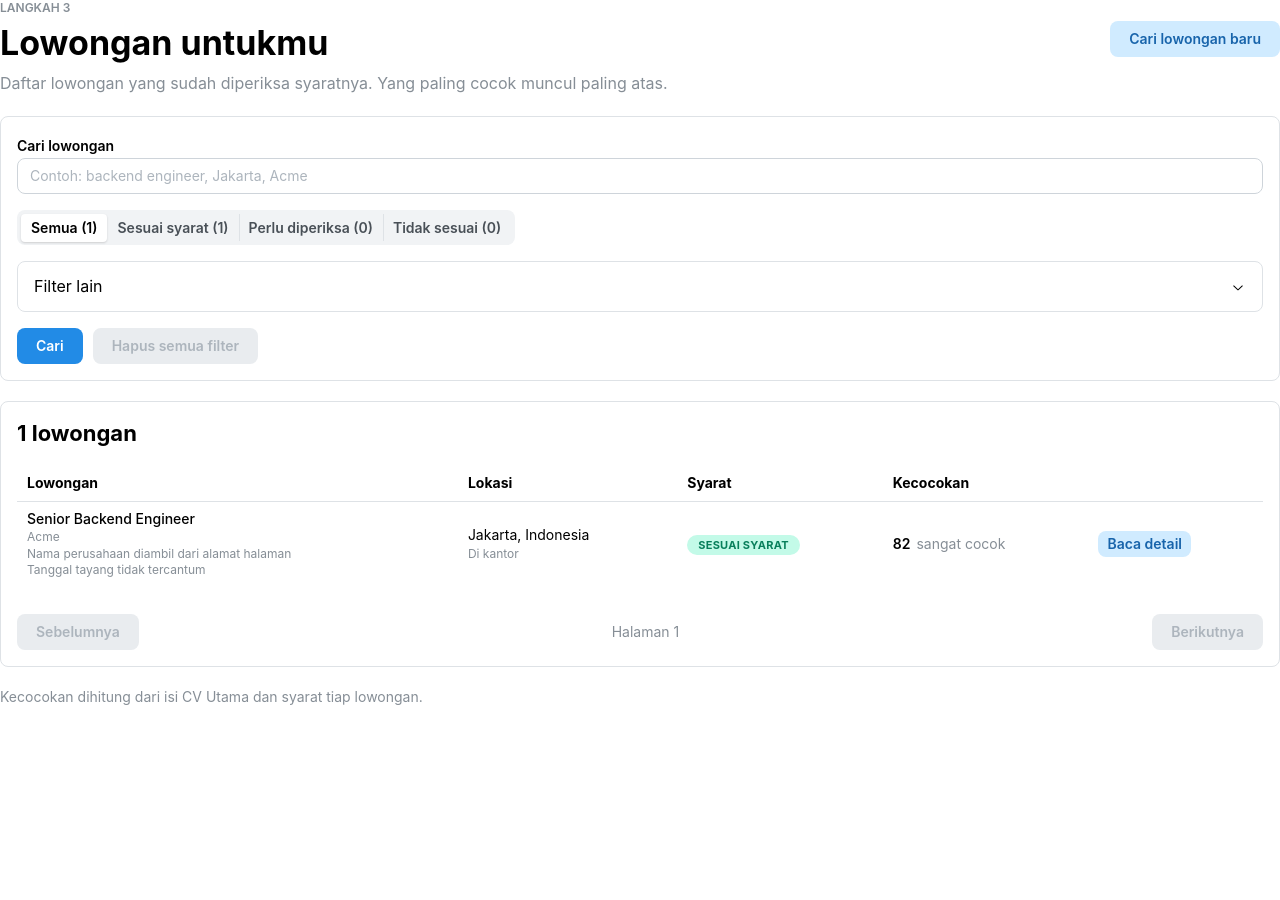
Test: MatchesPage › names the two gaps the source leaves, and only those
Expected: the text "Nama perusahaan diambil dari alamat halaman" is shown, [27,546,291,561]
Expected: the text "Tanggal tayang tidak tercantum" is shown, [27,562,206,577]
Step 1. Click the text "Senior Backend Engineer" → (111, 518), box [27,510,195,526]
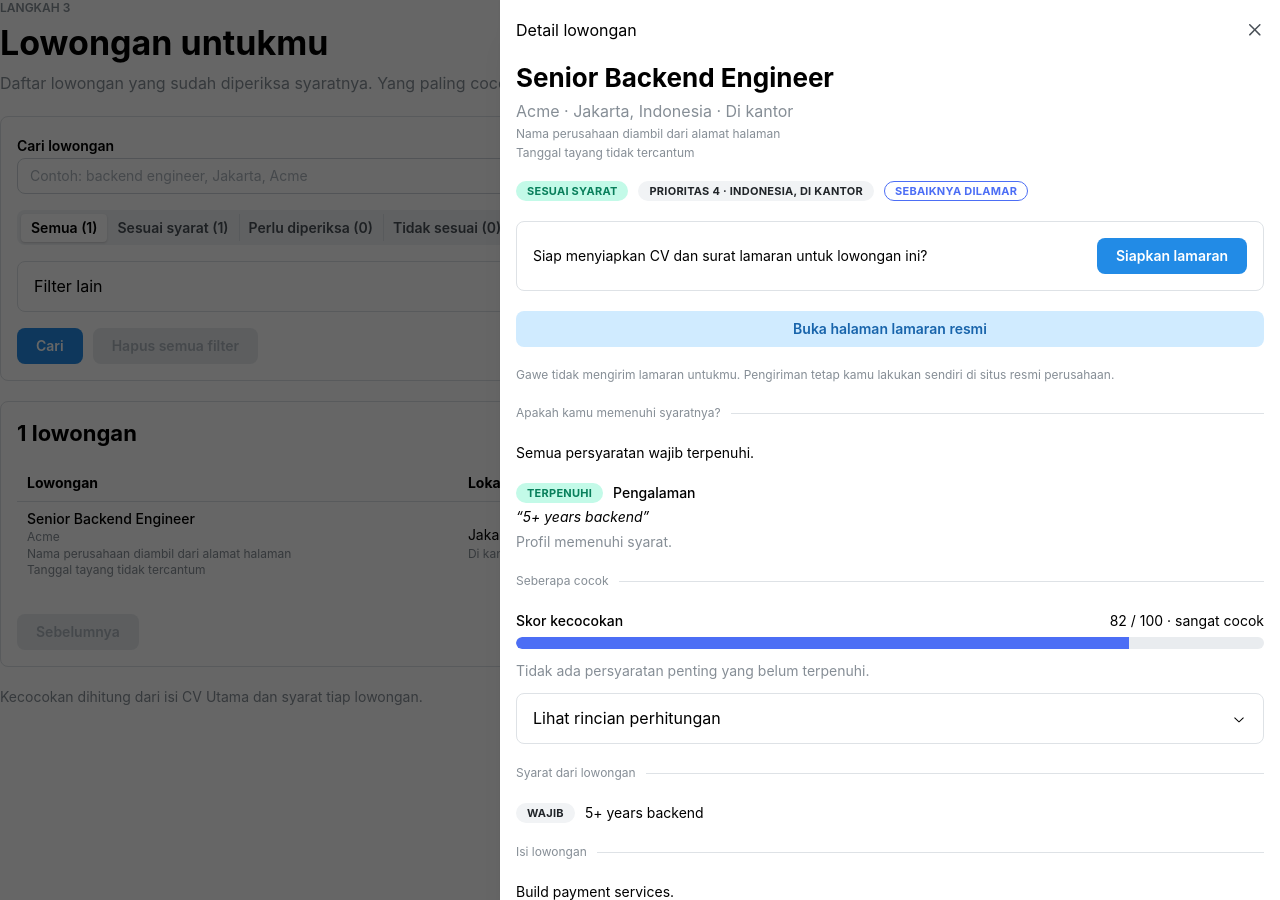
Now the text "Nama perusahaan diambil dari alamat halaman" is shown, box [516,126,780,141]
Now the text "Tanggal tayang tidak tercantum" is shown, box [516,145,695,160]
